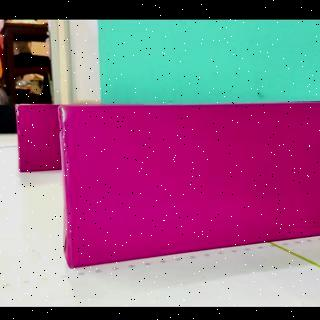xparking: (69, 106, 320, 268), (18, 108, 61, 172)
